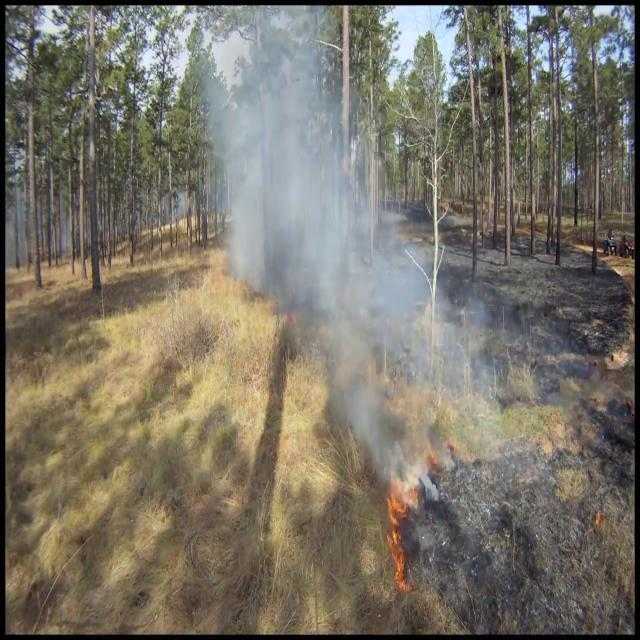Fire: (380, 478, 418, 586)
Smoke: (211, 14, 495, 508)
